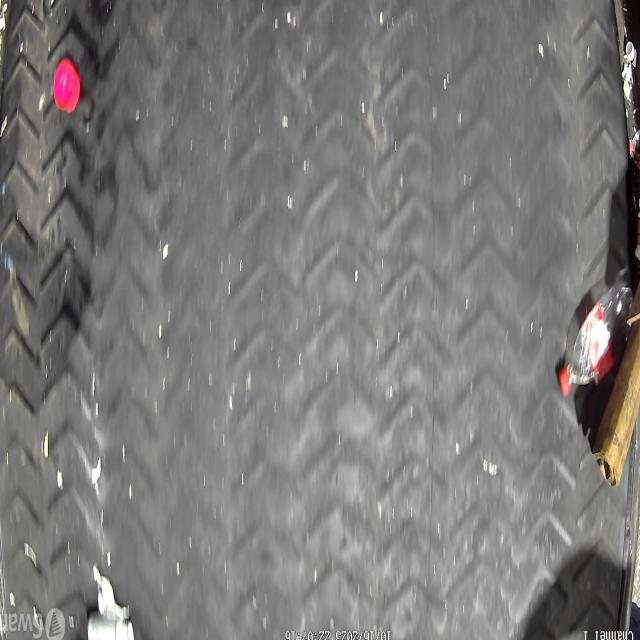plastic_bottle: (558, 278, 632, 396)
